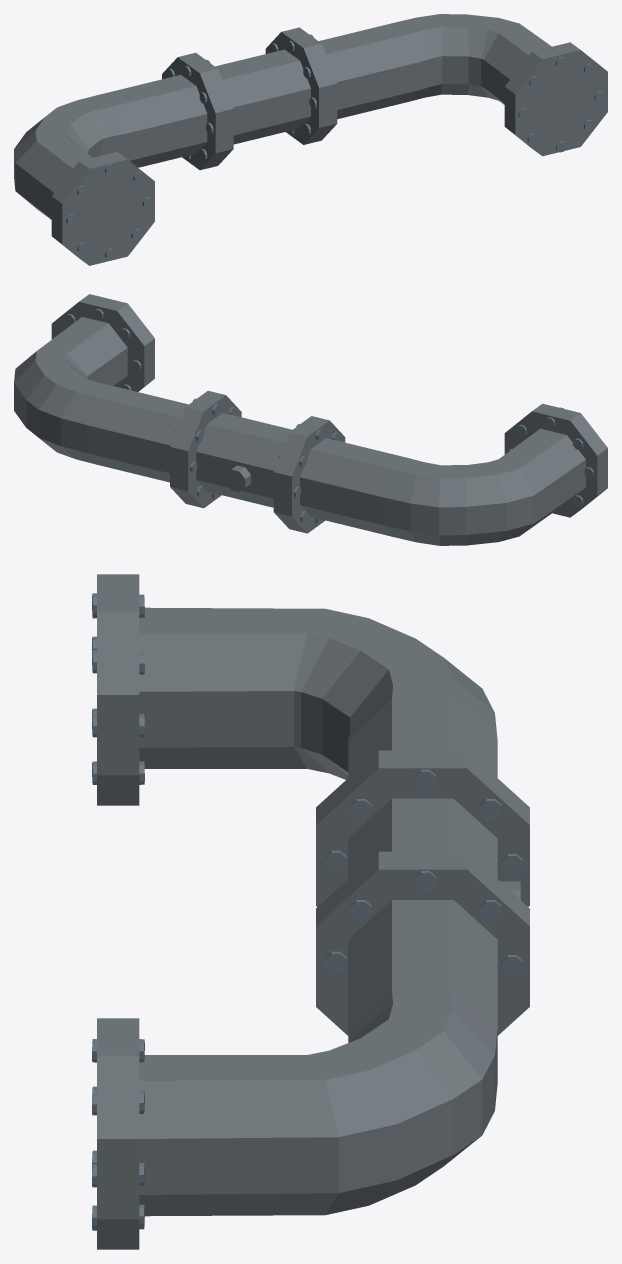
File: pipe.glb
3 views of the same model, one above another, from view 1: azimuth 30°, elevation 25°; view 2: azimuth 150°, elevation 25°; view 3: azimuth 270°, elevation 25° (orthographic). The views are drawn at different scales.
Visible parts, largest first — view 1: Pipe.004, Pipe, cylinder.192, Pipe.002, Pipe.001, Pipe.003; view 2: Pipe, Pipe.004, Pipe.002, cylinder.192, Pipe.003, Pipe.001, Pipe.005; view 3: Pipe.004, Pipe, Pipe.001, Pipe.003, cylinder.192, Pipe.002.
Part boxes in pixels (x1,y1,x2,y2): Pipe.004: [319, 14, 607, 156]; Pipe: [14, 75, 207, 219]; cylinder.192: [51, 152, 154, 265]; Pipe.002: [215, 49, 310, 144]; Pipe.001: [265, 27, 337, 144]; Pipe.003: [162, 52, 233, 170]; Pipe: [300, 428, 585, 545]; Pipe.004: [14, 294, 188, 482]; Pipe.002: [196, 413, 292, 507]; cylinder.192: [504, 403, 607, 517]; Pipe.003: [273, 416, 345, 533]; Pipe.001: [170, 390, 241, 508]; Pipe.005: [225, 465, 250, 492]; Pipe.004: [92, 900, 497, 1249]; Pipe: [139, 607, 497, 779]; Pipe.001: [316, 851, 529, 1035]; Pipe.003: [316, 750, 529, 906]; cylinder.192: [92, 574, 144, 805]; Pipe.002: [348, 798, 497, 878].
Bounding box in the file's own units: 22.05 × 3.78 × 7.66.
Materials: 2 (2 with a texture image).
